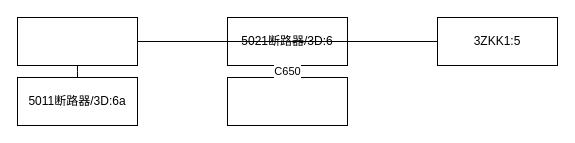
The diagram is 575 pixels wide and 143 high, and some of its shapes have lost their labels. Here are the shapes that lost their labels. From the top down, the centre of each, then its label:
At (x=77, y=41): "5011断路器/3D:6".
At (x=287, y=101): "5021断路器/3D:6a".
